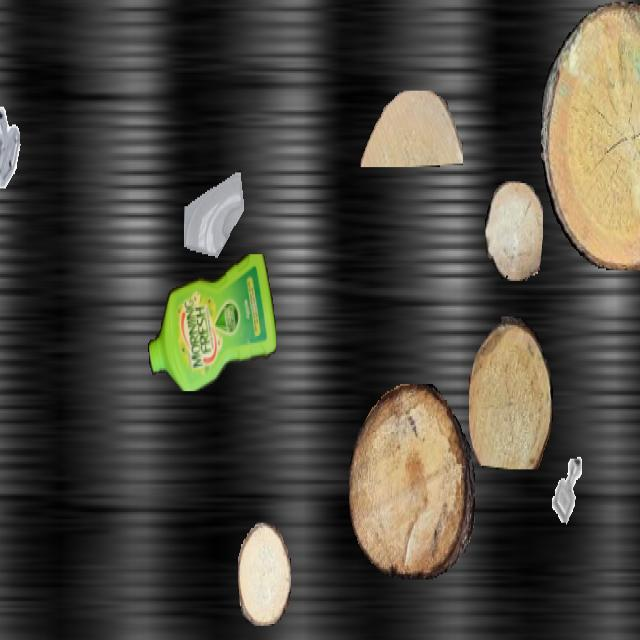glass: (184, 171, 246, 281)
metal: (542, 444, 594, 537), (0, 101, 32, 187)
plastic: (148, 255, 276, 390)
wood: (541, 2, 640, 268), (349, 384, 475, 580), (469, 316, 553, 469), (601, 25, 640, 245), (360, 91, 462, 165), (485, 181, 543, 281), (238, 522, 290, 626)
